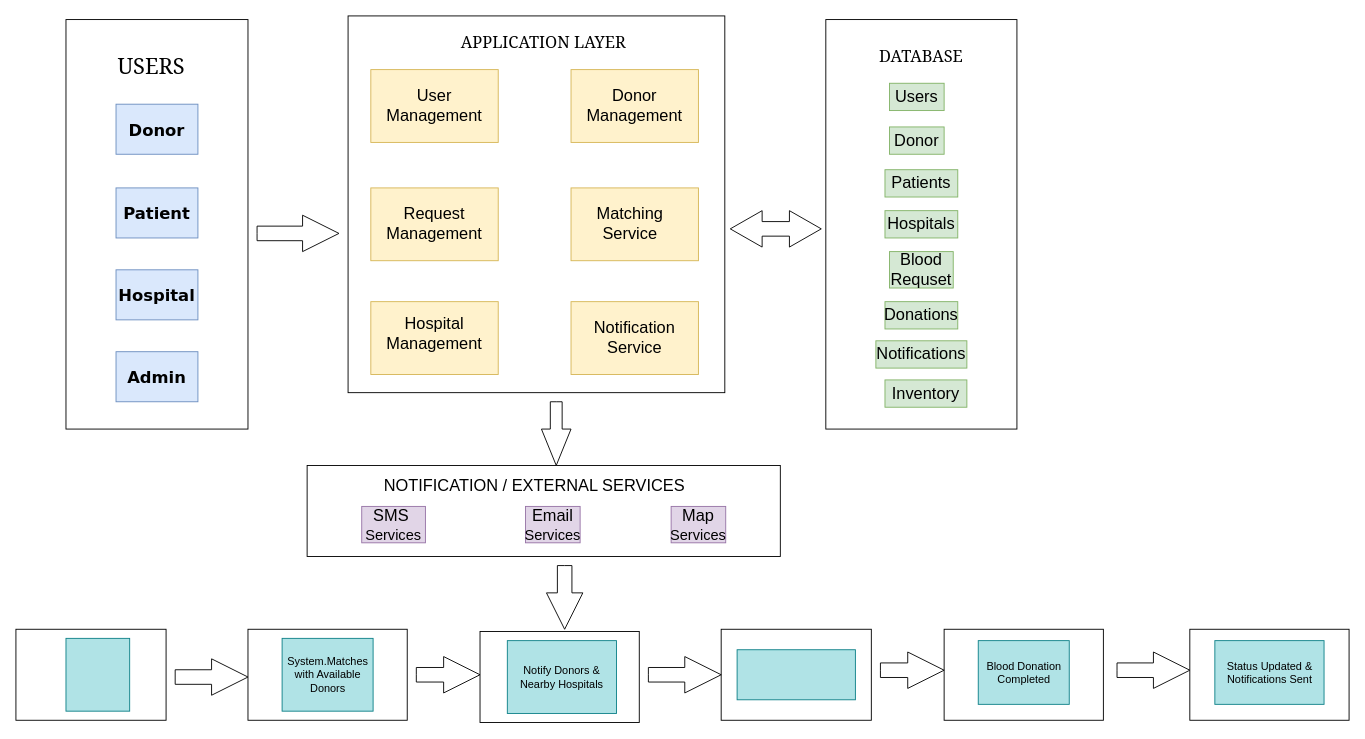
This 1365x739 diagram has some shape labels left out. Here are the shapes that lost their labels. From the top down, the centre of each, then its label:
the point at 97,674: patient creates Blood Request
the point at 795,674: Donors / Hospitals Responds
